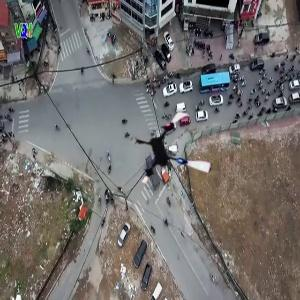drone: (129, 109, 219, 199)
